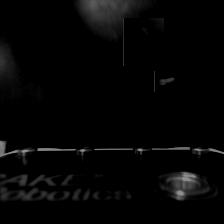Door Handle: (122, 20, 166, 65)
Lock: (156, 69, 182, 94)
